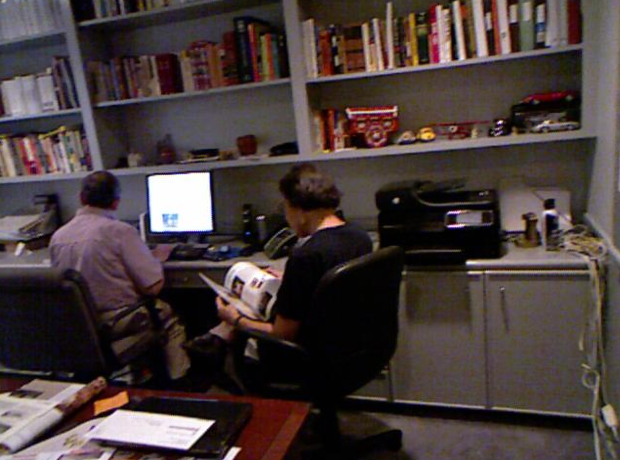cabinetDoor: (490, 279, 586, 402), (412, 276, 484, 398)
chair: (329, 244, 405, 455), (2, 268, 87, 370)
table: (0, 401, 314, 460)
